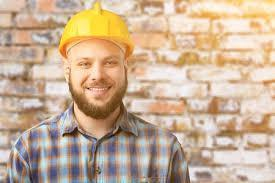helmet: (58, 2, 135, 56)
